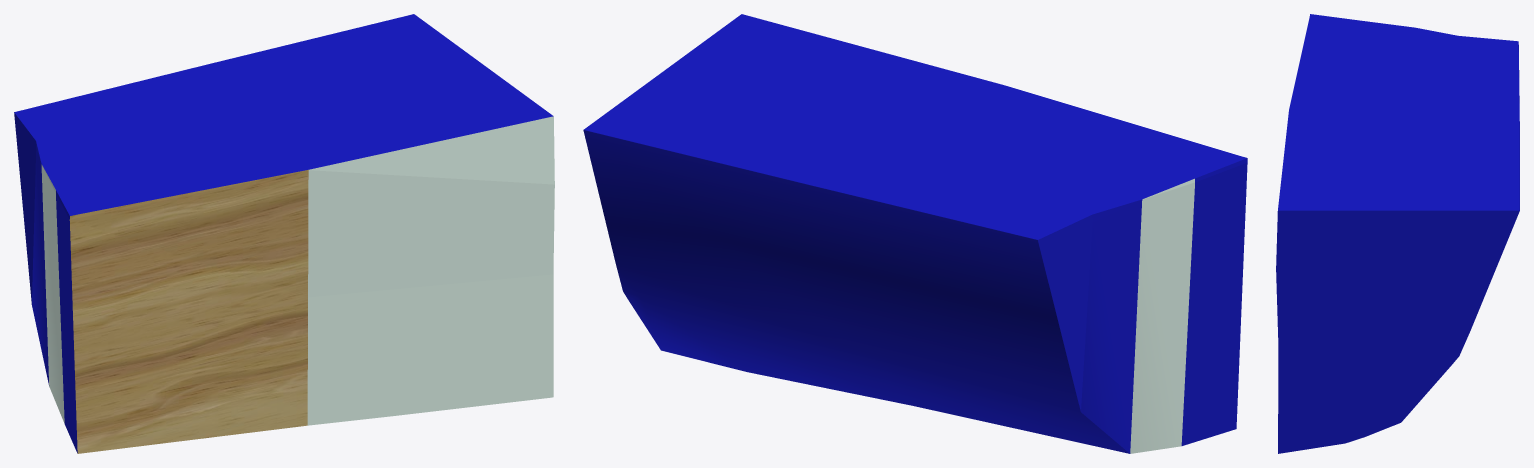
Rendered from backRight.obj.
The picture shows the model from 3 angles, left to right: view 1: azimuth 30°, elevation 25°; view 2: azimuth 150°, elevation 25°; view 3: azimuth 270°, elevation 25°; orthographic projection. The views are drawn at different scales.
Parts seen in each view (by area): view 1: backRight_Cabin_Plane.001_Windows.002; view 2: backRight_Cabin_Plane.001_Windows.002; view 3: backRight_Cabin_Plane.001_Windows.002.
Boxes of the visible parts, left/top/right/bottom form: backRight_Cabin_Plane.001_Windows.002: left=14, top=14, right=554, bottom=453; backRight_Cabin_Plane.001_Windows.002: left=583, top=14, right=1247, bottom=453; backRight_Cabin_Plane.001_Windows.002: left=1276, top=14, right=1519, bottom=453.
Size of the model in its own units: 1.68 by 0.9723 by 0.8828.
